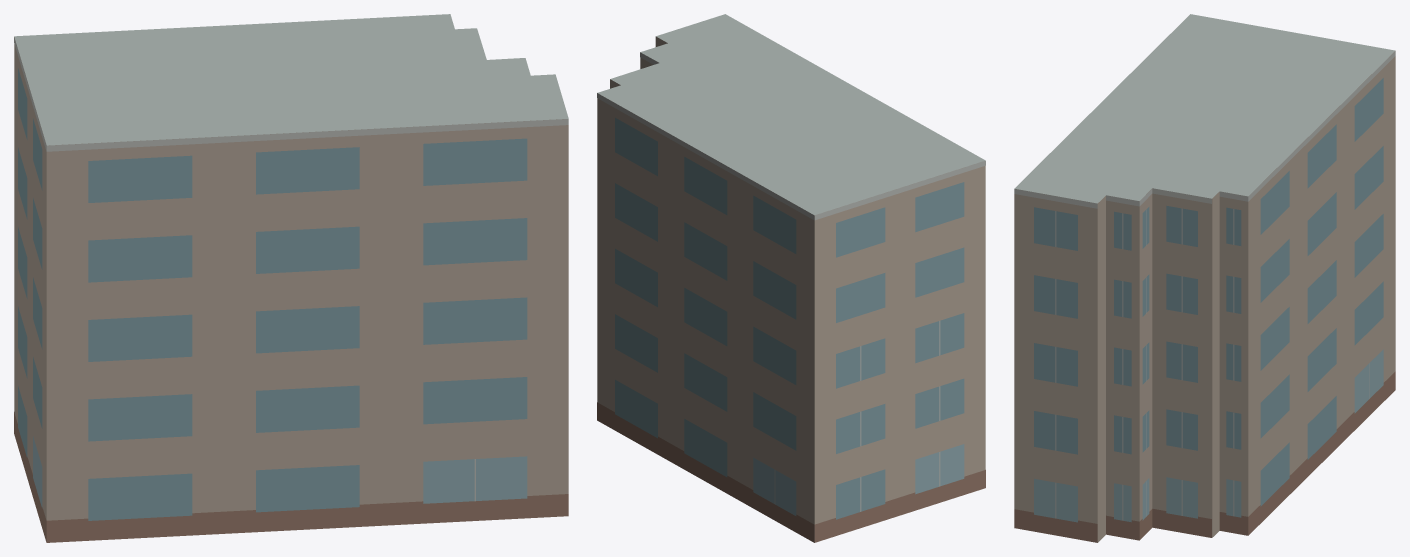
The model's file is survey-upis-32526688.glb.
3 views of the same model, side by side, from view 1: azimuth 30°, elevation 25°; view 2: azimuth 150°, elevation 25°; view 3: azimuth 270°, elevation 25° (orthographic). The views are drawn at different scales.
Visible parts, largest first — view 1: survey-upis-32526688.tmp; view 2: survey-upis-32526688.tmp; view 3: survey-upis-32526688.tmp.
Part boxes in pixels (x1=…): survey-upis-32526688.tmp: x1=14, y1=14, x2=568, y2=542; survey-upis-32526688.tmp: x1=597, y1=14, x2=985, y2=542; survey-upis-32526688.tmp: x1=1014, y1=14, x2=1395, y2=542.
Size of the model in its own units: 18.69 by 15.6 by 15.9.
